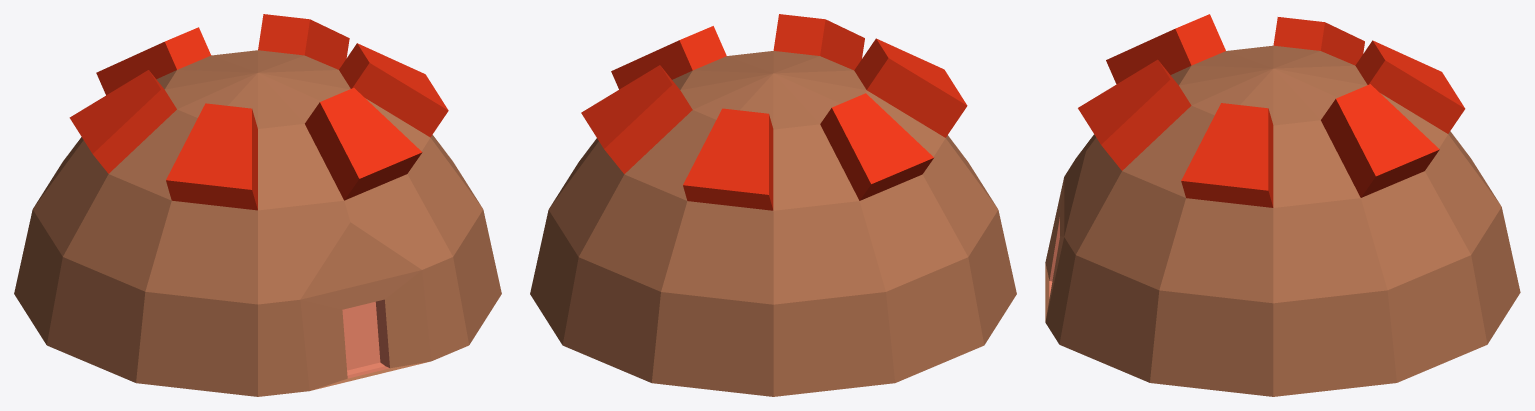
3 renders of one model, left to right at view 1: azimuth 30°, elevation 25°; view 2: azimuth 150°, elevation 25°; view 3: azimuth 270°, elevation 25°, orthographic.
Visible parts, largest first — view 1: Base; view 2: Base; view 3: Base.
Part boxes in pixels (left/top/right/bottom): Base: left=14, top=14, right=501, bottom=396; Base: left=530, top=14, right=1016, bottom=396; Base: left=1045, top=14, right=1520, bottom=396.
Bounding box in the file's own units: 2 × 1.92 × 1.06.
